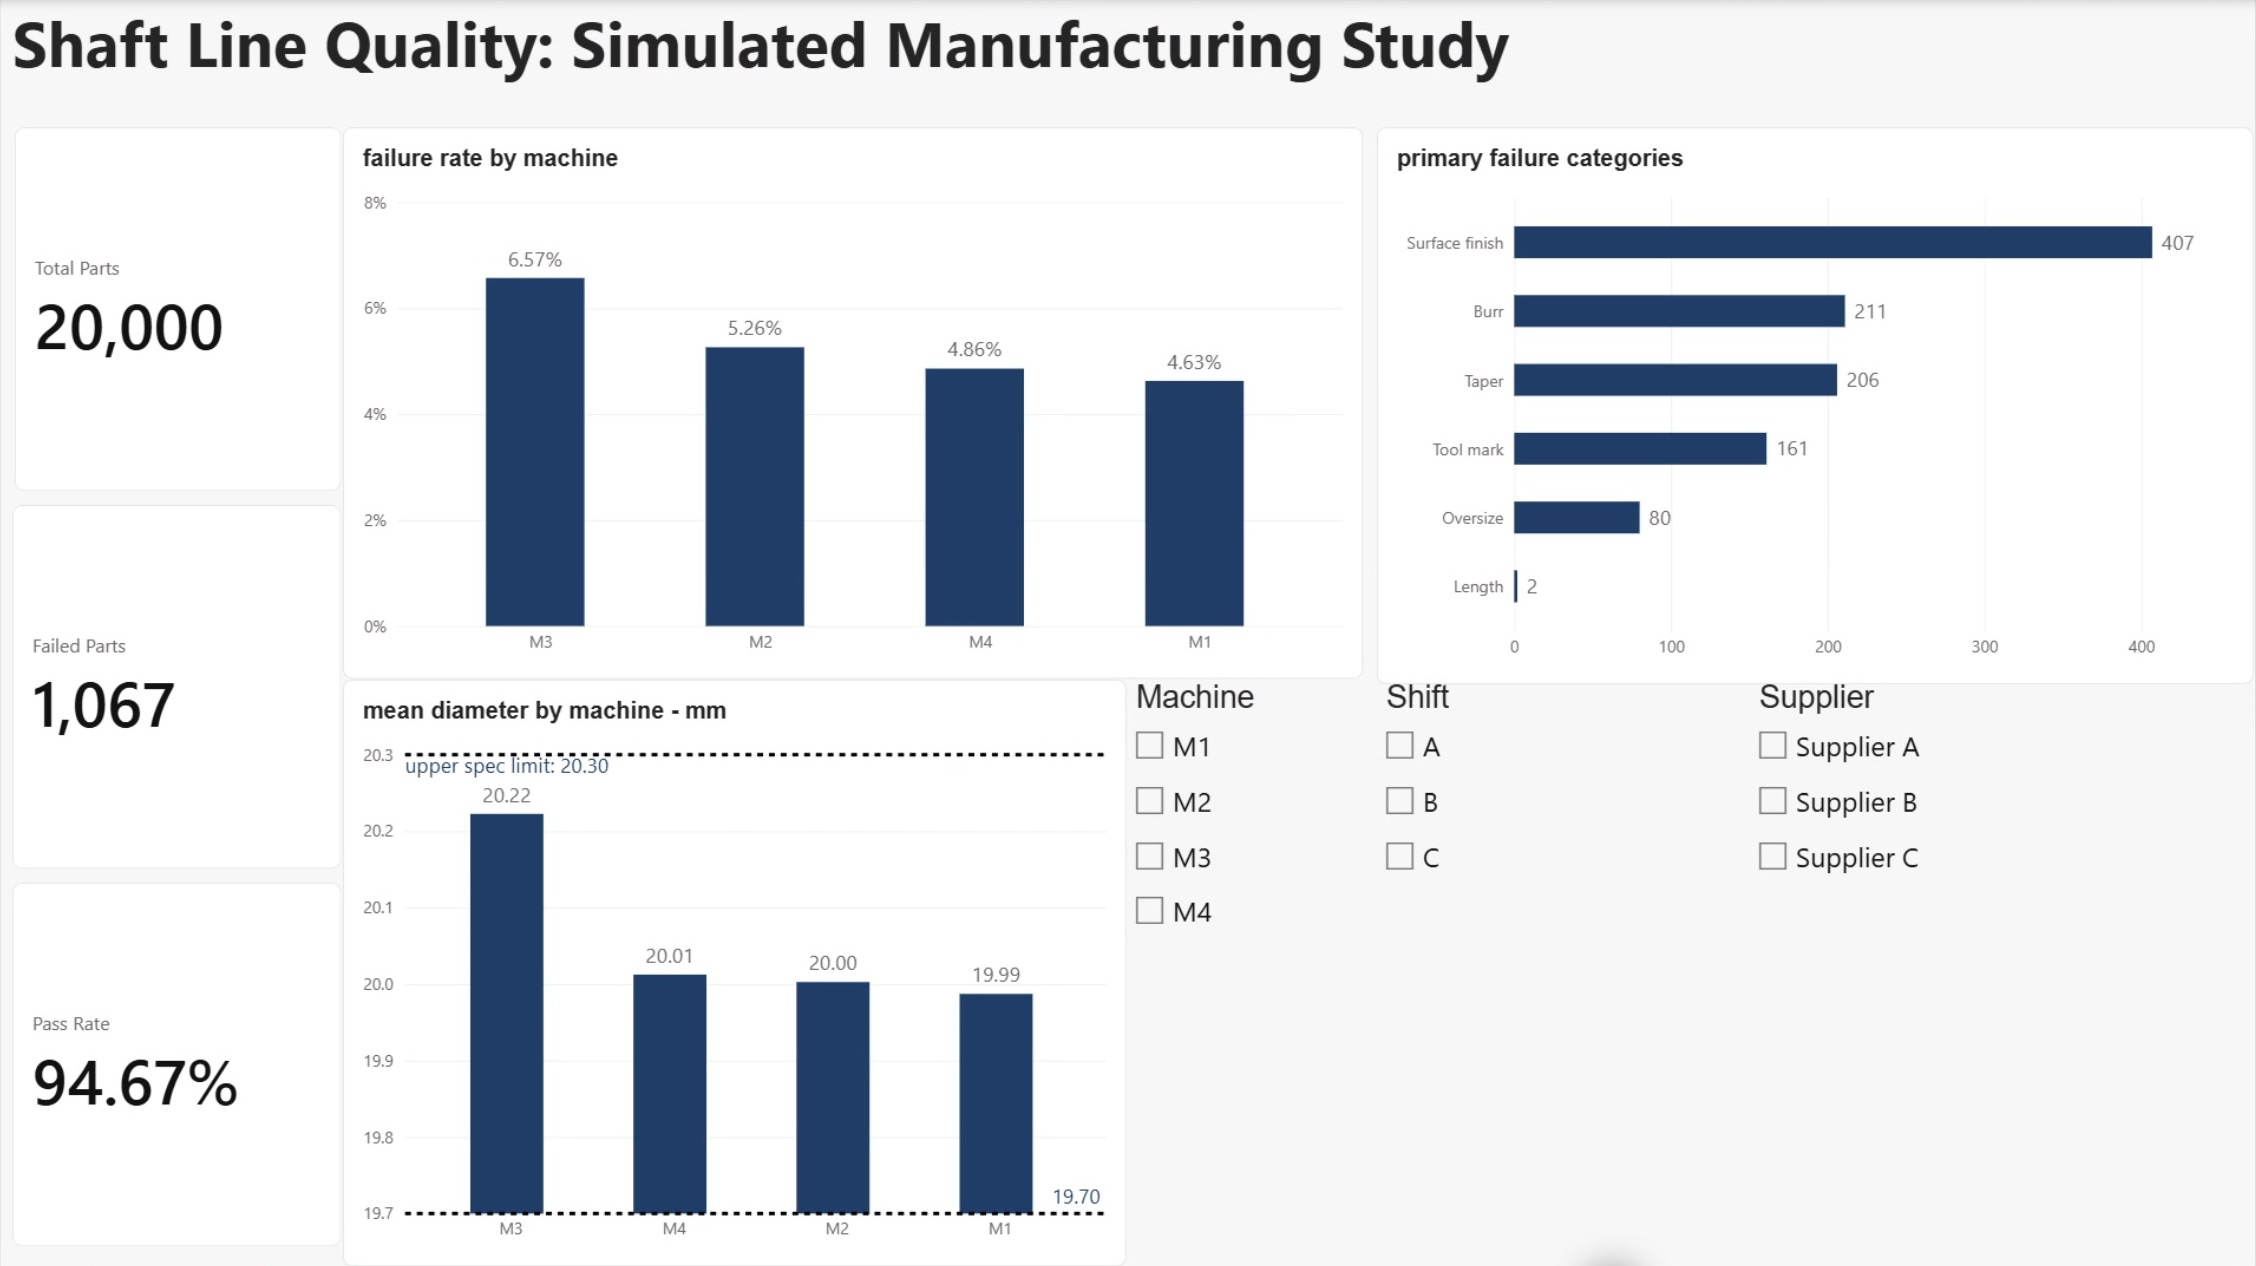

The page's visual inventory and layout, read from the dashboard file:
{"tool":"powerbi","page":{"name":"Page 1","canvas":[1920,1080],"ordinal":0},"visuals":[{"type":"cardVisual","fields":{"Data":["manufacturing.Total Parts"]},"box":[11.4,107.9,278.3,310],"z":0},{"type":"cardVisual","fields":{"Data":["manufacturing.Failed Parts"]},"box":[10,430,280,310],"z":1000},{"type":"cardVisual","fields":{"Data":["manufacturing.Pass Rate"]},"box":[10,752,280,310],"z":2000},{"type":"clusteredColumnChart","title":"failure rate by machine","fields":{"Category":["manufacturing.Machine"],"Y":["manufacturing.Failure Rate"]},"box":[292.5,108,869.1,470],"z":3000},{"type":"clusteredBarChart","title":"primary failure categories","fields":{"Category":["manufacturing.Defect_Type"],"Y":["manufacturing.Failed Parts"]},"box":[1173,107.9,747,474.3],"z":4000},{"type":"clusteredColumnChart","title":"mean diameter by machine - mm","fields":{"Category":["manufacturing.Machine"],"Y":["Avg(manufacturing.Diameter_mm)"]},"box":[292.5,579.4,667.5,499.9],"z":5000},{"type":"slicer","fields":{"Values":["manufacturing.Machine"]},"box":[960,579,202,500],"z":6000},{"type":"slicer","fields":{"Values":["manufacturing.Shift"]},"box":[1173,579.4,318.1,499.9],"z":7000},{"type":"slicer","fields":{"Values":["manufacturing.Supplier"]},"box":[1491.1,579.4,428.9,499.9],"z":8000},{"type":"textbox","box":[10,0,1621.8,79.5],"z":8001}]}

Visuals, with their boxes in screenshot pixels (x1, y1, x2, y2), scaled from the page's 1920x1080 canvas onto the 2256x1266 screenshot:
cardVisual - manufacturing.Total Parts: {"x1": 13, "y1": 126, "x2": 340, "y2": 490}
cardVisual - manufacturing.Failed Parts: {"x1": 12, "y1": 504, "x2": 341, "y2": 867}
cardVisual - manufacturing.Pass Rate: {"x1": 12, "y1": 882, "x2": 341, "y2": 1245}
"failure rate by machine" clusteredColumnChart: {"x1": 344, "y1": 127, "x2": 1365, "y2": 678}
"primary failure categories" clusteredBarChart: {"x1": 1378, "y1": 126, "x2": 2255, "y2": 682}
"mean diameter by machine - mm" clusteredColumnChart: {"x1": 344, "y1": 679, "x2": 1128, "y2": 1265}
slicer - manufacturing.Machine: {"x1": 1128, "y1": 679, "x2": 1365, "y2": 1265}
slicer - manufacturing.Shift: {"x1": 1378, "y1": 679, "x2": 1752, "y2": 1265}
slicer - manufacturing.Supplier: {"x1": 1752, "y1": 679, "x2": 2255, "y2": 1265}
textbox: {"x1": 12, "y1": 0, "x2": 1917, "y2": 93}
